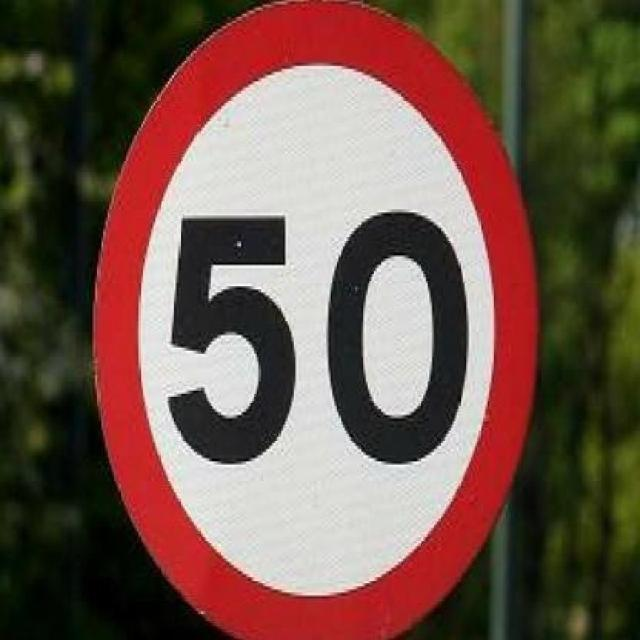forb_speed_over_50: (110, 31, 539, 620)
